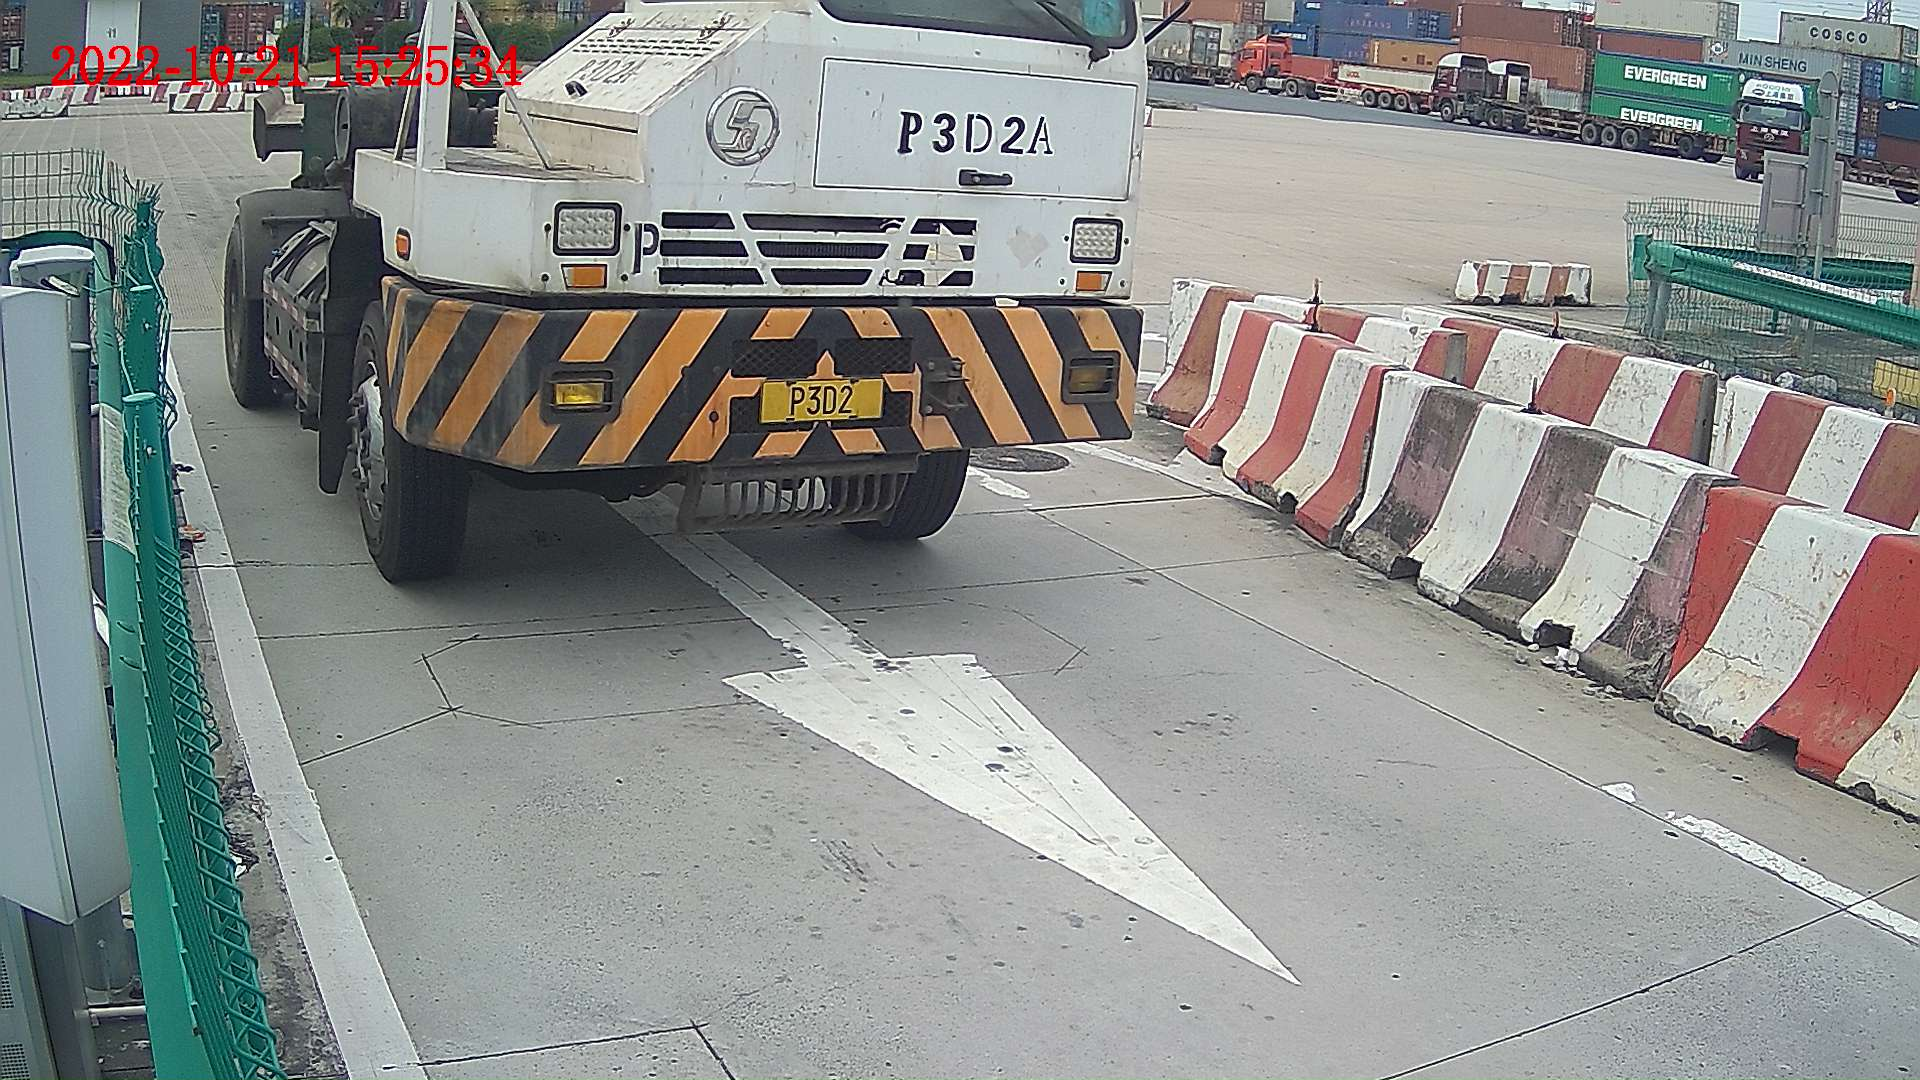head: (345, 1, 1143, 586)
plate: (763, 378, 883, 419)
